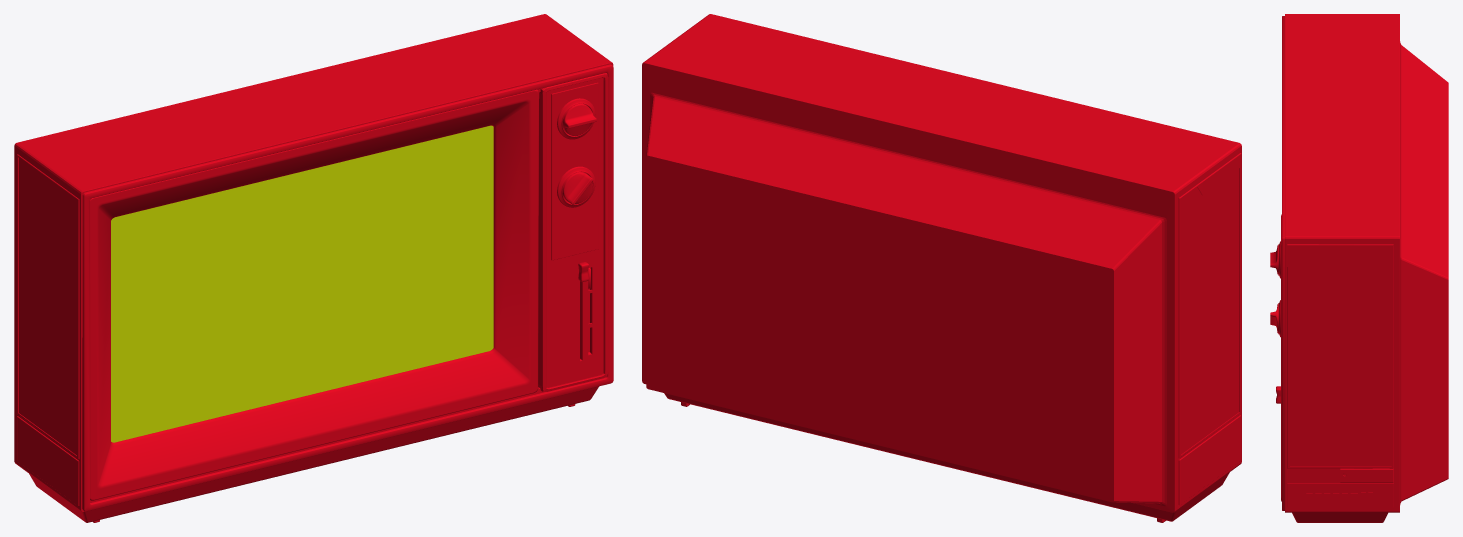
Rendered from crt_monitor.fbx.
3 renders of one model, left to right at view 1: azimuth 30°, elevation 25°; view 2: azimuth 150°, elevation 25°; view 3: azimuth 270°, elevation 25°, orthographic. The views are drawn at different scales.
Visible parts, largest first — view 1: back screen panel, Cube, knobtop, knobbottom; view 2: back screen panel, Cube; view 3: back screen panel, Cube, knobtop, knobbottom.
Boxes of the visible parts, x1,y1,x2,y2 form: back screen panel: (14, 14, 613, 511); Cube: (29, 386, 598, 522); knobtop: (557, 98, 596, 139); knobbottom: (557, 166, 595, 207); back screen panel: (642, 14, 1241, 512); Cube: (664, 393, 1229, 521); back screen panel: (1276, 14, 1448, 512); Cube: (1292, 512, 1387, 522); knobtop: (1270, 241, 1280, 278); knobbottom: (1270, 300, 1280, 337).
Bounding box in the file's own units: 81.84 × 50.5 × 27.48.
